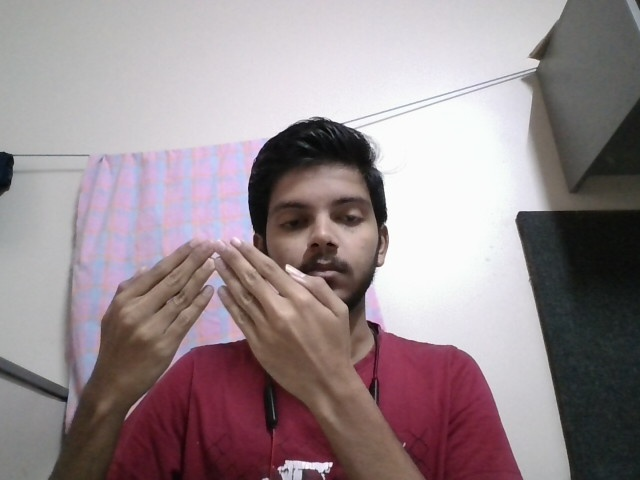Thank You: (92, 236, 358, 397)
